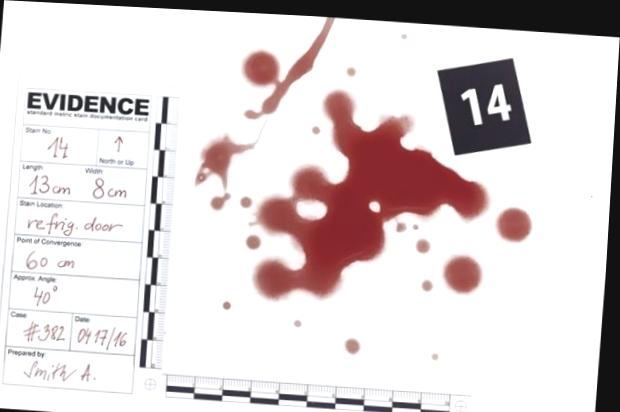Fire: (251, 86, 491, 297), (240, 14, 334, 116), (196, 130, 257, 188), (446, 248, 486, 288), (498, 200, 534, 235), (211, 189, 232, 207), (348, 333, 365, 350), (417, 233, 433, 248), (248, 231, 263, 246), (241, 192, 254, 205)
